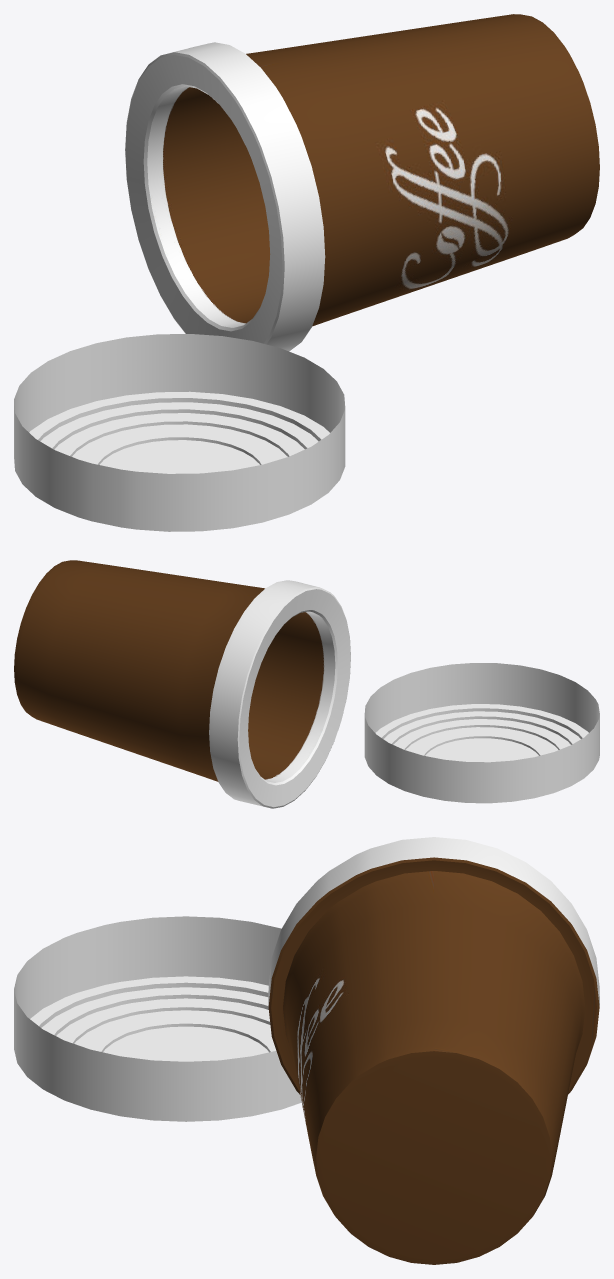
Rendered from cofee.glb.
3 renders of one model, top to bottom at view 1: azimuth 30°, elevation 25°; view 2: azimuth 150°, elevation 25°; view 3: azimuth 270°, elevation 25°, orthographic. The views are drawn at different scales.
Parts seen in each view (by area): view 1: Cylinder_Material_004_0; view 2: Cylinder_Material_004_0; view 3: Cylinder_Material_004_0.
Boxes of the visible parts, x1=… form: Cylinder_Material_004_0: x1=14, y1=14, x2=599, y2=531; Cylinder_Material_004_0: x1=14, y1=560, x2=599, y2=808; Cylinder_Material_004_0: x1=14, y1=837, x2=599, y2=1264.
Size of the model in its own units: 0.1999 by 0.0883 by 0.156.
1 material, 1 textured.
